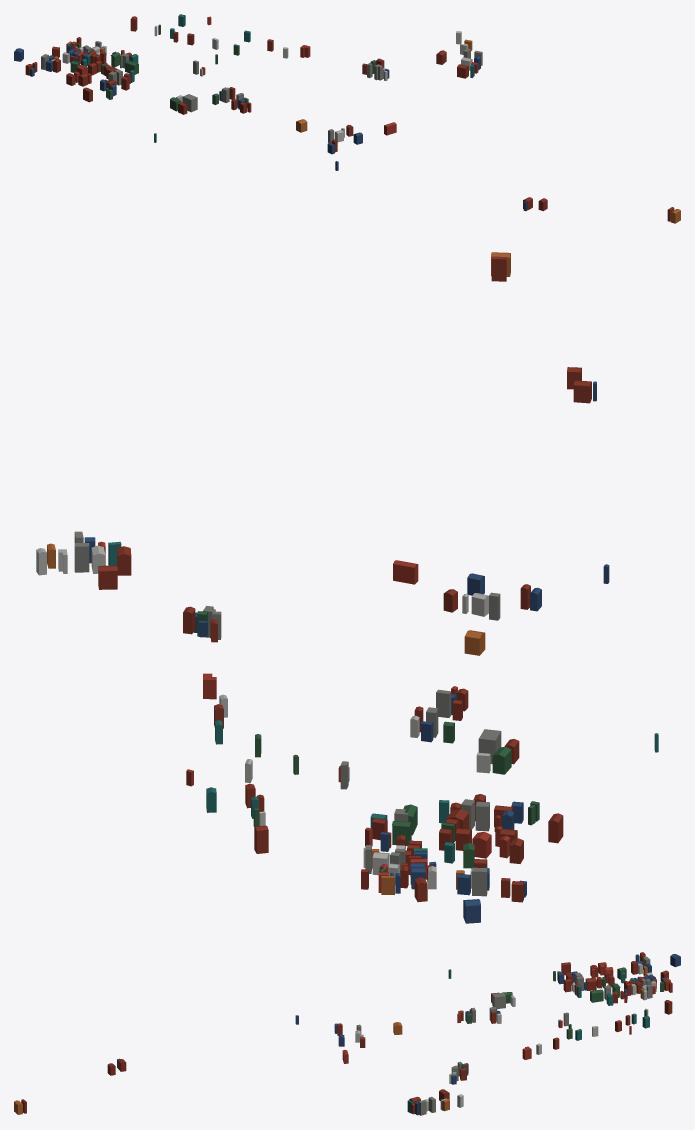
Rendered from near-15-27349-14879.83f8da25.glb.
The picture shows the model from 3 angles, top to bottom: view 1: azimuth 30°, elevation 25°; view 2: azimuth 150°, elevation 25°; view 3: azimuth 270°, elevation 25°; orthographic projection. The views are drawn at different scales.
Size of the model in its own units: 648 by 57.36 by 1109.
